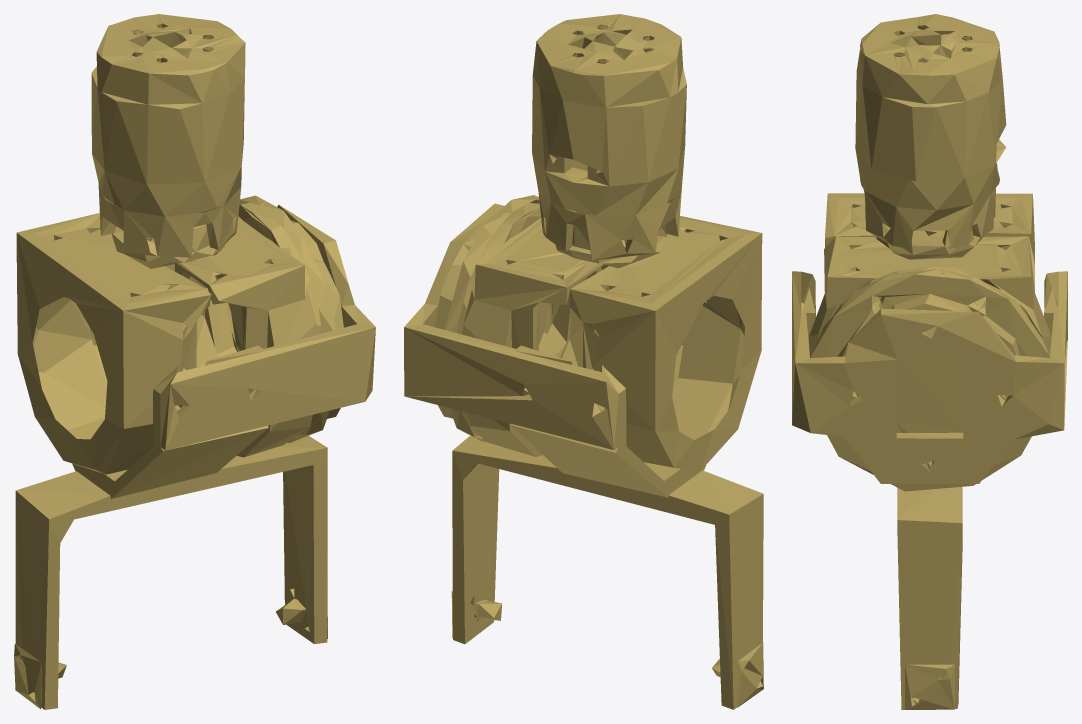
Rendered from l_forearm_pronation.dae.
3 views of the same model, side by side, from view 1: azimuth 30°, elevation 25°; view 2: azimuth 150°, elevation 25°; view 3: azimuth 270°, elevation 25° (orthographic). The views are drawn at different scales.
Parts seen in each view (by area): view 1: M5L; view 2: M5L; view 3: M5L.
Part boxes in pixels (<box>): M5L: <box>14,14,375,709</box>; M5L: <box>404,14,763,709</box>; M5L: <box>792,14,1067,709</box>.
Size of the model in its own units: 0.0694 by 0.059 by 0.1424.
